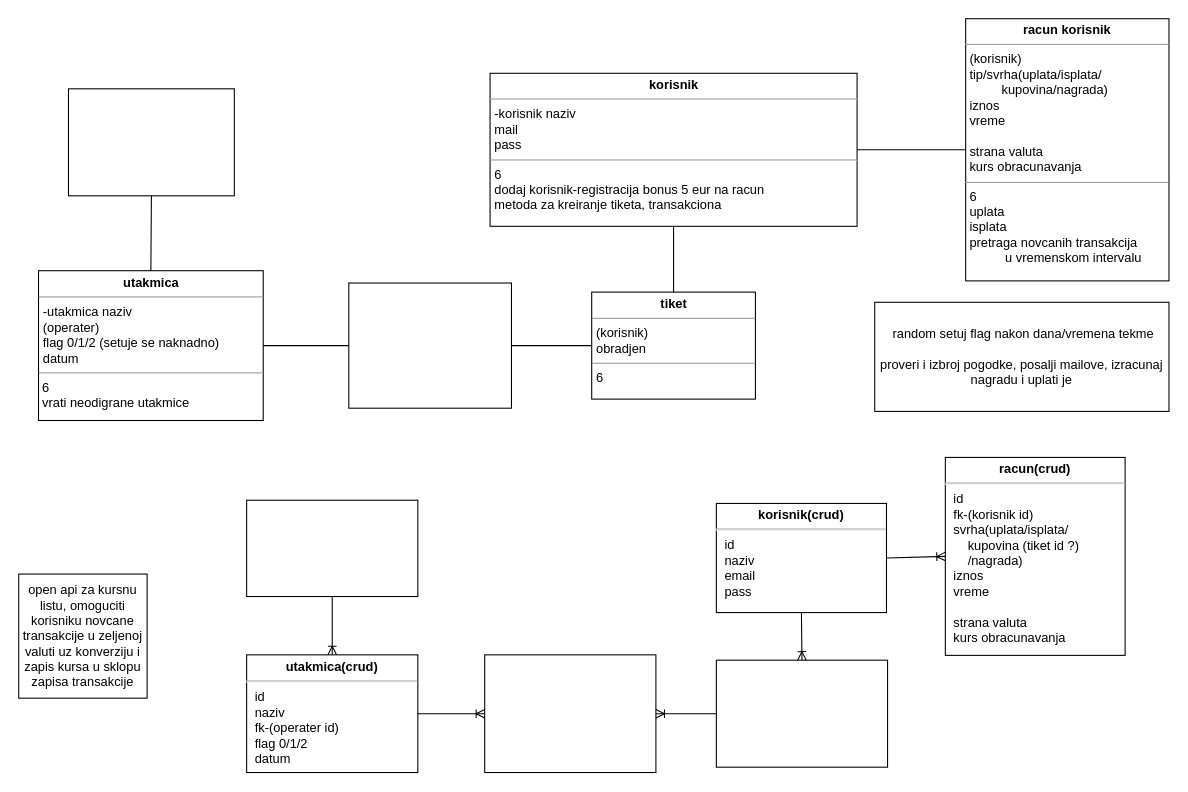
Some shapes in this 1188 by 792 pixel diagram are drawn without their labels. The centre of each missing label's shape, as x and y in pixels:
"operater -operater naziv pass 6" belongs at point 150,142.
"operater(crud) id naziv pass" belongs at point 332,548.
"tiket (crud) id fk-(korisnik id) uplaceno za tiket obradjen" belongs at point 801,713.
"utakmica-tiket (crud) id fk-(utakmica id) fk-(tiket id) predvidjanje" belongs at point 570,713.
"utakmica-tiket (utakmica) (tiket) predvidjanje 6" belongs at point 429,345.
